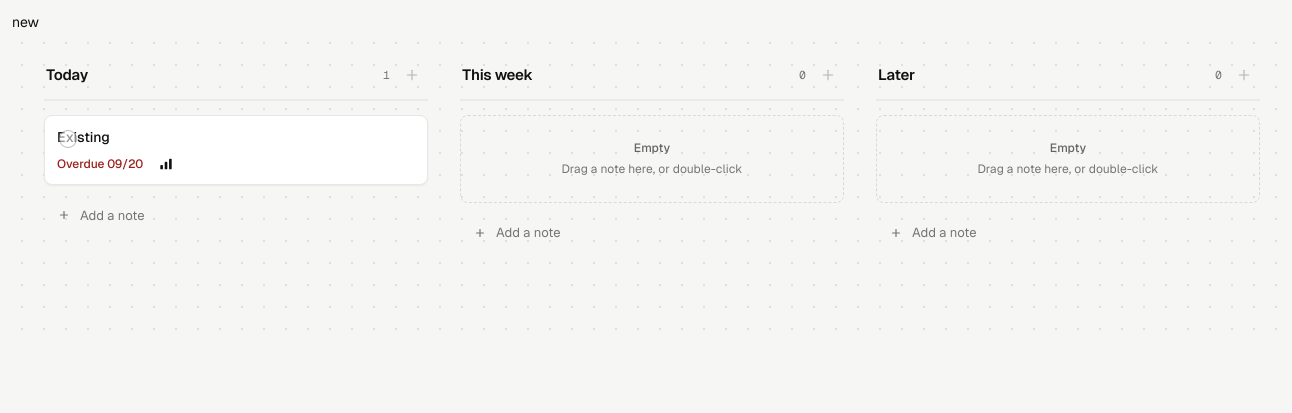
Test case: useCaptureSession: a capture never blocks the next one › a zone plus while a commit is still settling opens a fresh card there
Expected: the text "Existing" is shown, x1=57 y1=128 x2=110 y2=148
Click the button named "Add a note to “Today”" at [412, 75], box x1=398 y1=61 x2=426 y2=89
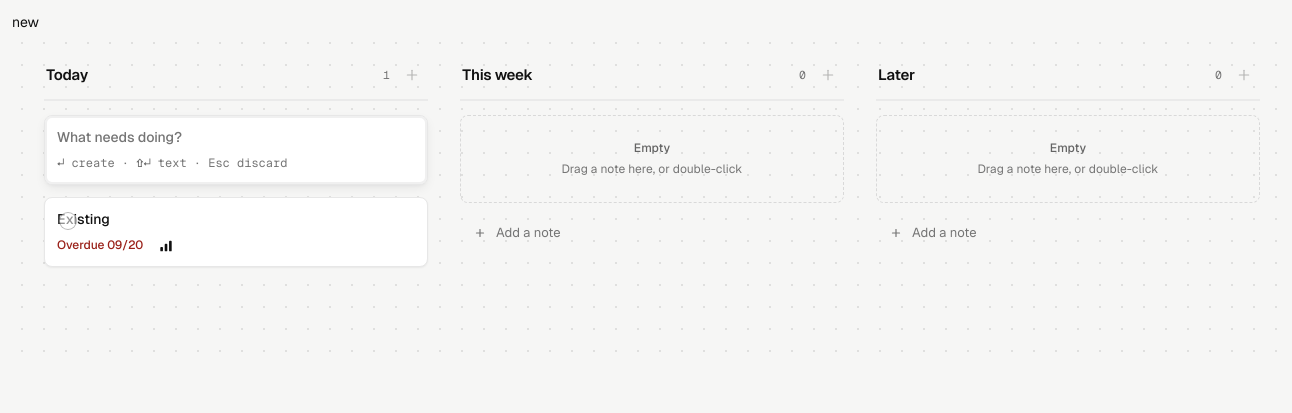
Type "First" into the text box named "Title of the new note" at [236, 138], box x1=57 y1=128 x2=415 y2=147
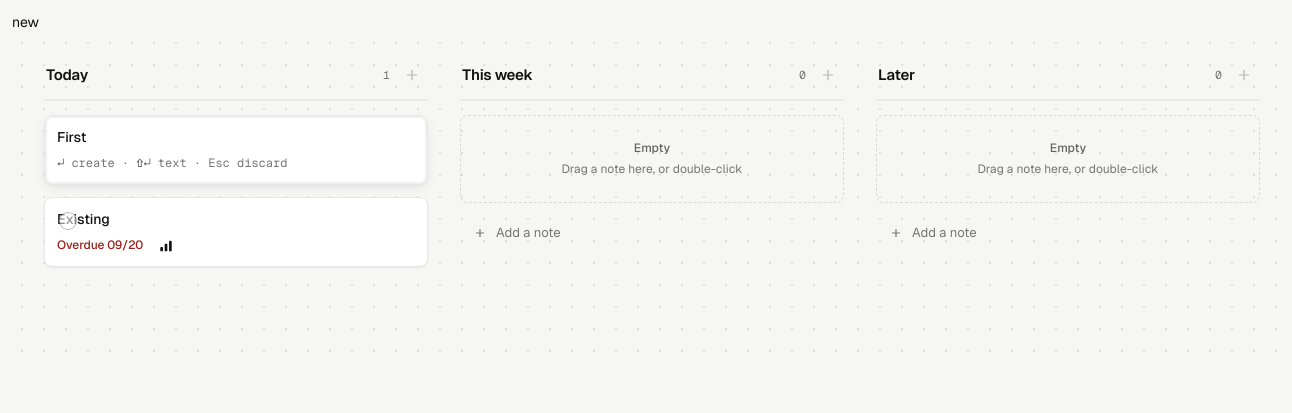
Note: A real click: mousedown moves focus (the card blurs and starts its commit), then click.
Click the button named "Add a note to “This week”" at [828, 75], box x1=814 y1=61 x2=842 y2=89
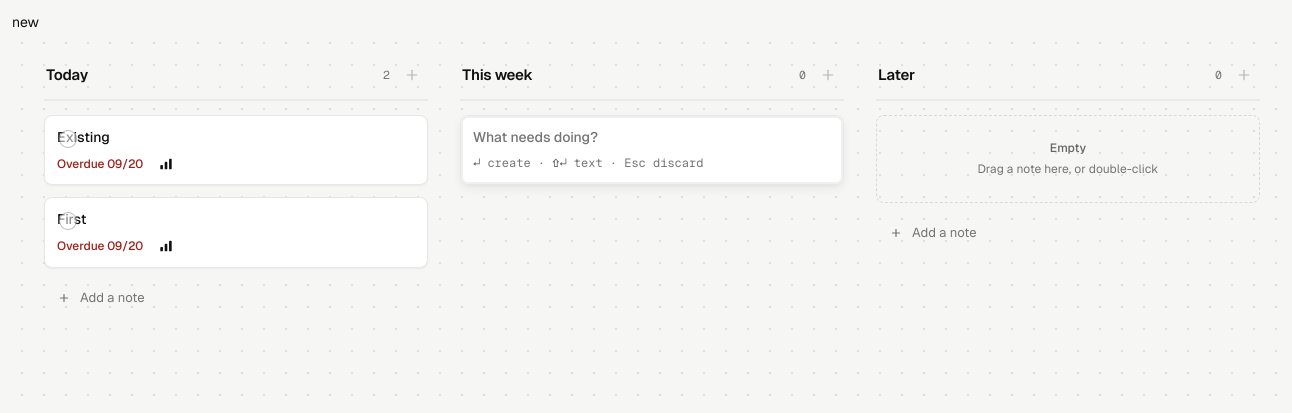
Expected: the text "First" is shown, x1=57 y1=210 x2=86 y2=230
Expected: the element named "Write a new note" is shown, x1=460 y1=115 x2=844 y2=185
Expected: the text box named "Title of the new note" is empty, x1=473 y1=128 x2=831 y2=147
